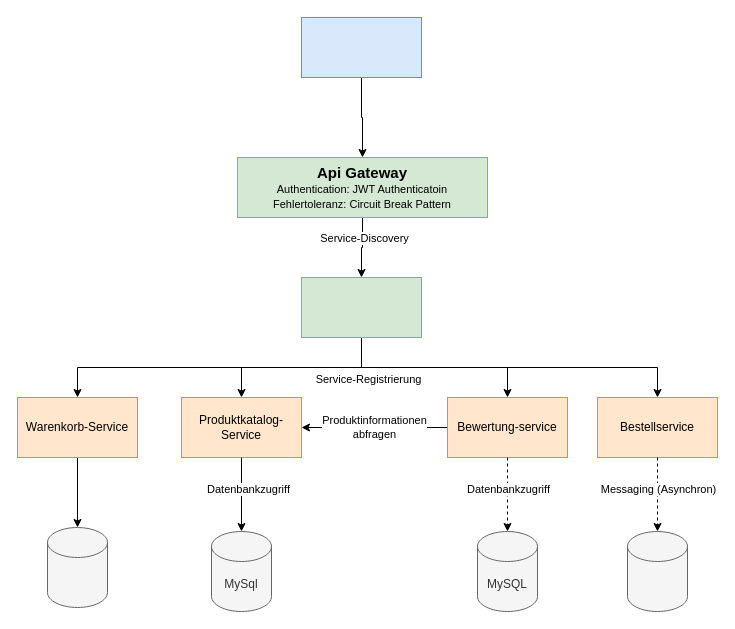
The diagram is 735 pixels wide and 629 high, and some of its shapes have lost their labels. The centre of each missing label's shape, as x and y in pixels:
"Eurkea" goes at point 361,307.
"Frontend React" goes at point 361,47.
"Kafka" goes at point 657,571.
"Redis" goes at point 77,567.
